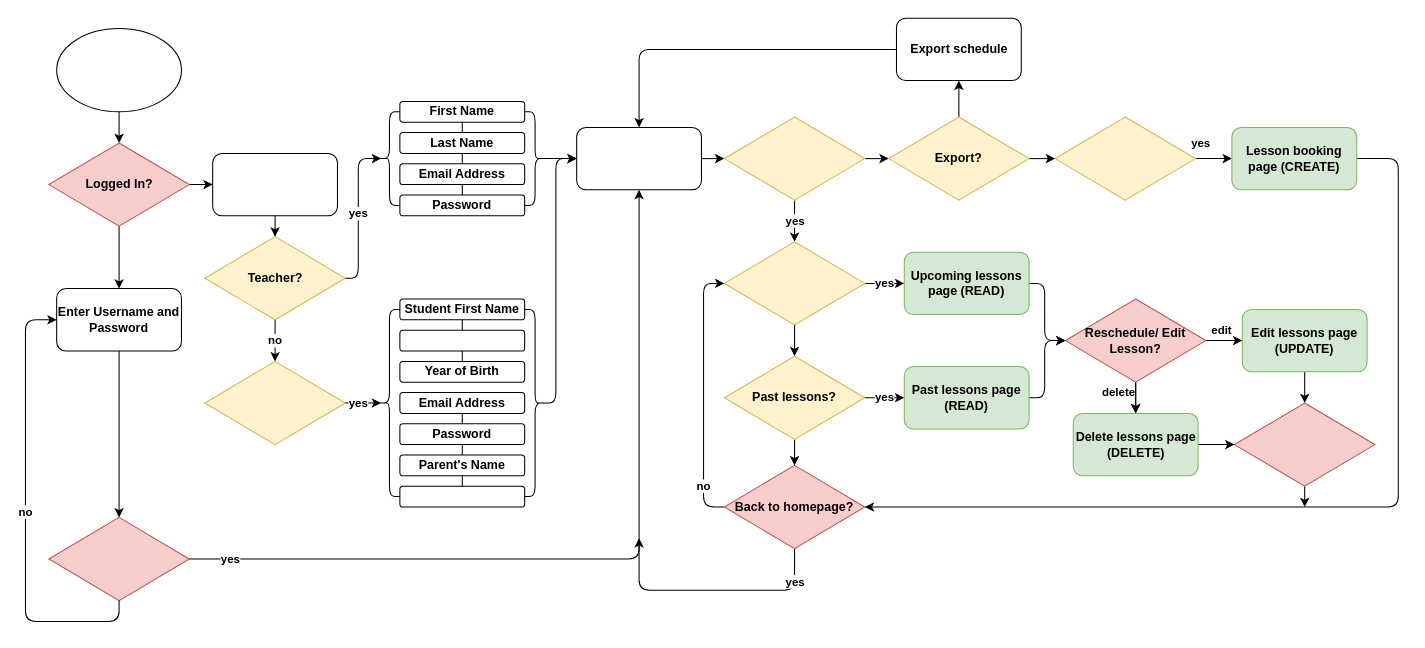
The diagram is 1425 pixels wide and 648 high, and some of its shapes have lost their labels. The box of each missing label's shape, as (x1, y1, x2, y2) in pixels:
Book a lesson?: (1054, 116, 1195, 200)
Correct?: (48, 516, 189, 601)
Create new account: (212, 152, 337, 216)
Homepage: (576, 126, 701, 190)
Open Webpage: (56, 28, 181, 112)
Phone Number: (399, 485, 525, 507)
Save?: (1233, 402, 1375, 486)
Student Last Name: (399, 329, 525, 351)
Student/Parent: (204, 360, 345, 445)
Upcoming?: (723, 241, 865, 325)
View lessons?: (723, 116, 865, 200)
